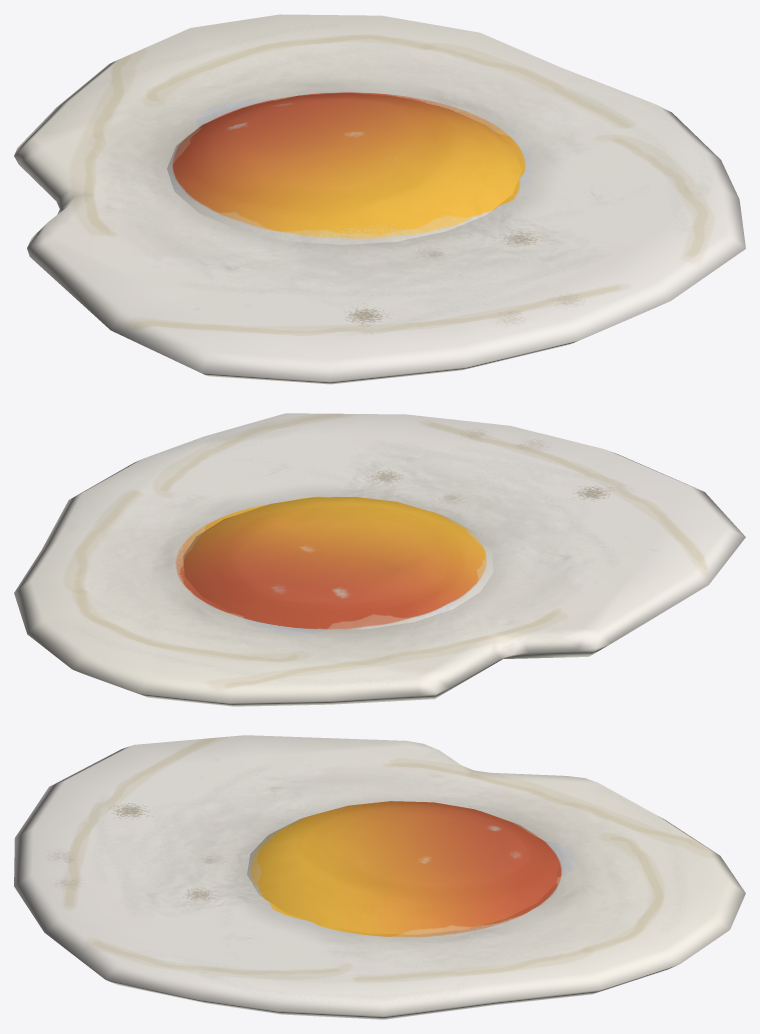
Rendered from egg.glb.
3 renders of one model, top to bottom at view 1: azimuth 30°, elevation 25°; view 2: azimuth 150°, elevation 25°; view 3: azimuth 270°, elevation 25°, orthographic. The views are drawn at different scales.
Visible parts, largest first — view 1: OVO_FRITO_LP; view 2: OVO_FRITO_LP; view 3: OVO_FRITO_LP.
Boxes of the visible parts, x1,y1,x2,y2 form: OVO_FRITO_LP: (14, 14, 745, 384); OVO_FRITO_LP: (14, 413, 745, 706); OVO_FRITO_LP: (14, 735, 745, 1019).
Size of the model in its own units: 0.1344 by 0.0116 by 0.15.
Materials: 1 (1 with a texture image).
